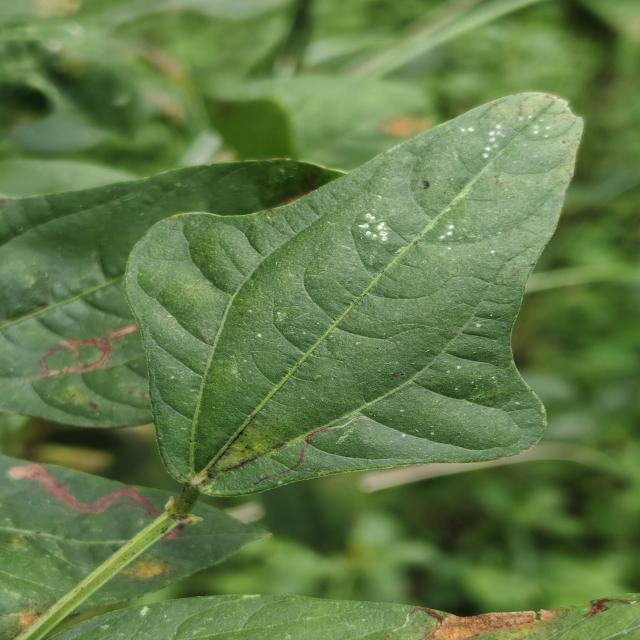sitaw-aphid-high: (126, 93, 584, 519), (0, 149, 345, 427), (74, 594, 640, 640)
